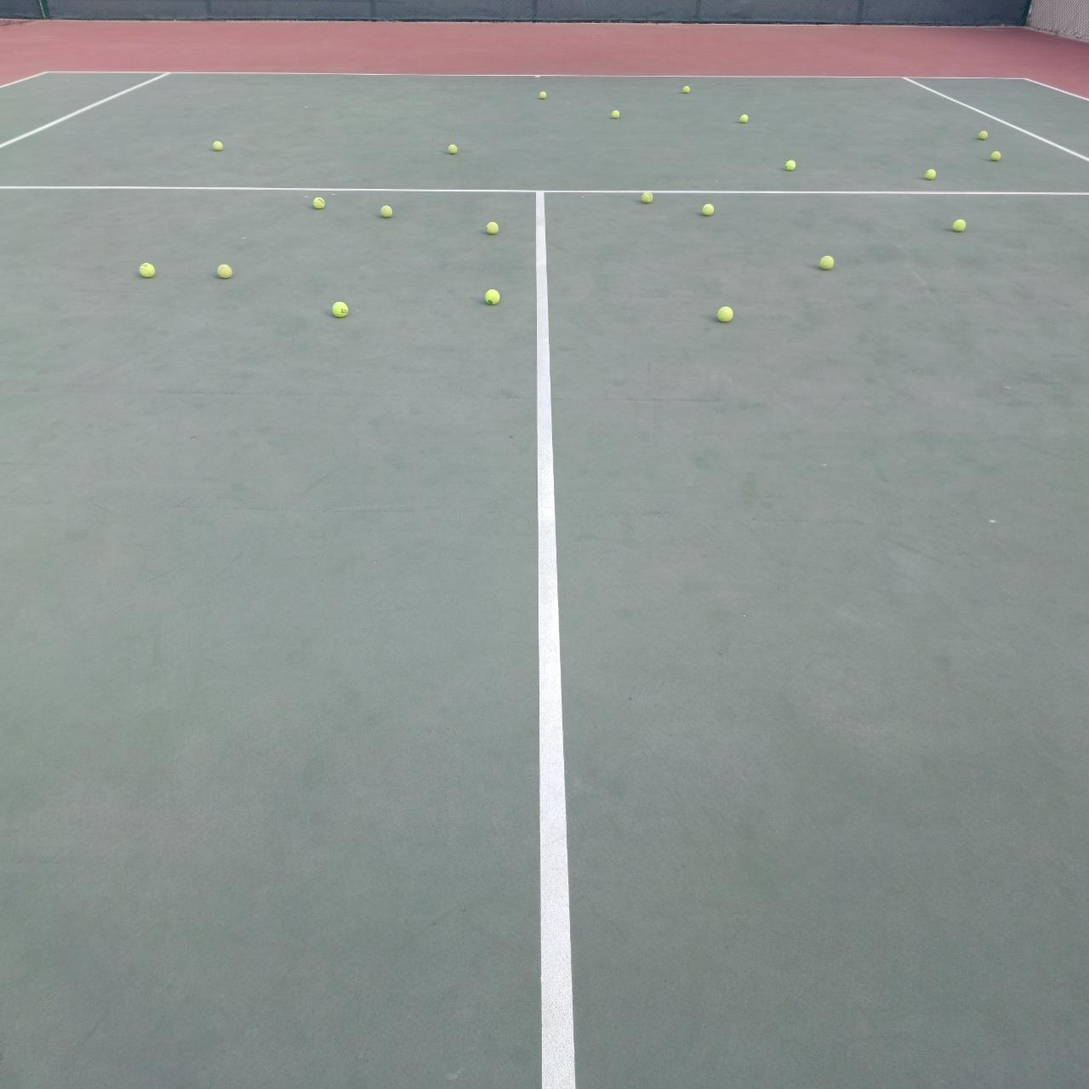tennis-ball: (716, 303, 734, 322), (137, 259, 155, 277), (331, 299, 348, 317), (817, 253, 835, 270), (215, 261, 232, 278), (483, 287, 499, 305), (484, 220, 499, 234), (311, 194, 325, 208), (380, 205, 393, 219), (640, 191, 654, 204), (952, 219, 966, 232), (702, 203, 714, 217), (925, 169, 937, 181), (213, 141, 224, 152), (785, 160, 796, 171), (990, 151, 1001, 162), (447, 144, 458, 154), (978, 130, 988, 139), (611, 110, 620, 119), (740, 114, 749, 123), (539, 91, 547, 100), (682, 85, 690, 94)
